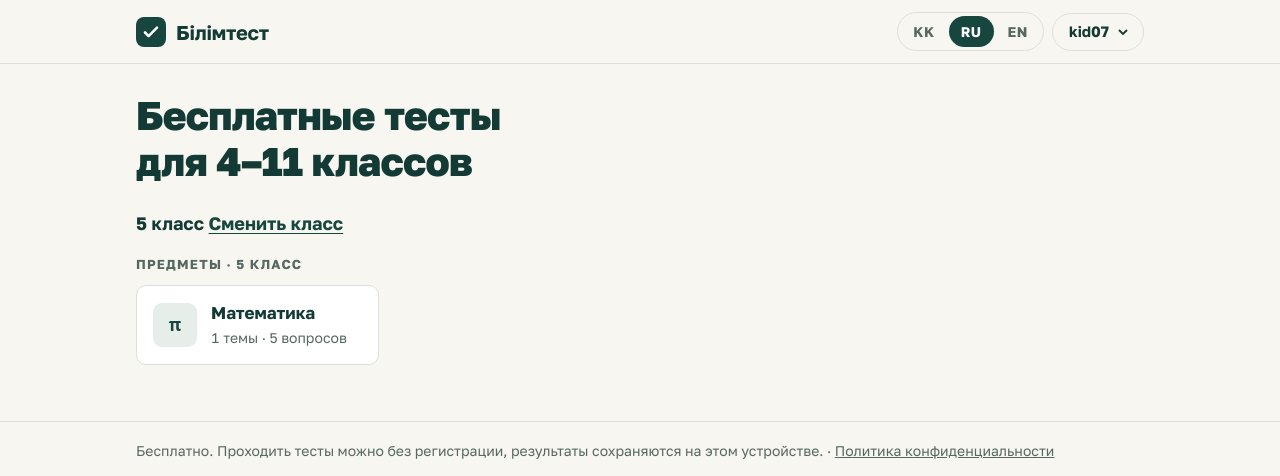
Test: сайт ученика › у ученика в меню ника нет пункта «Админка»
Click the button with aria-label "Меню аккаунта": (1098, 32) [1052,12,1144,50]
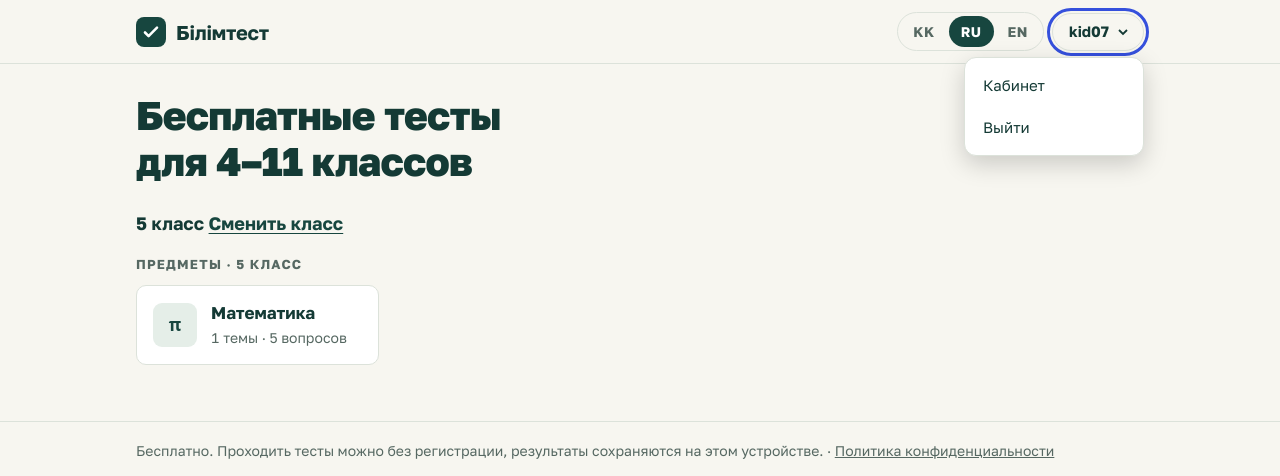
Result: the menu item "Кабинет" is shown at [983,76,1045,94]
